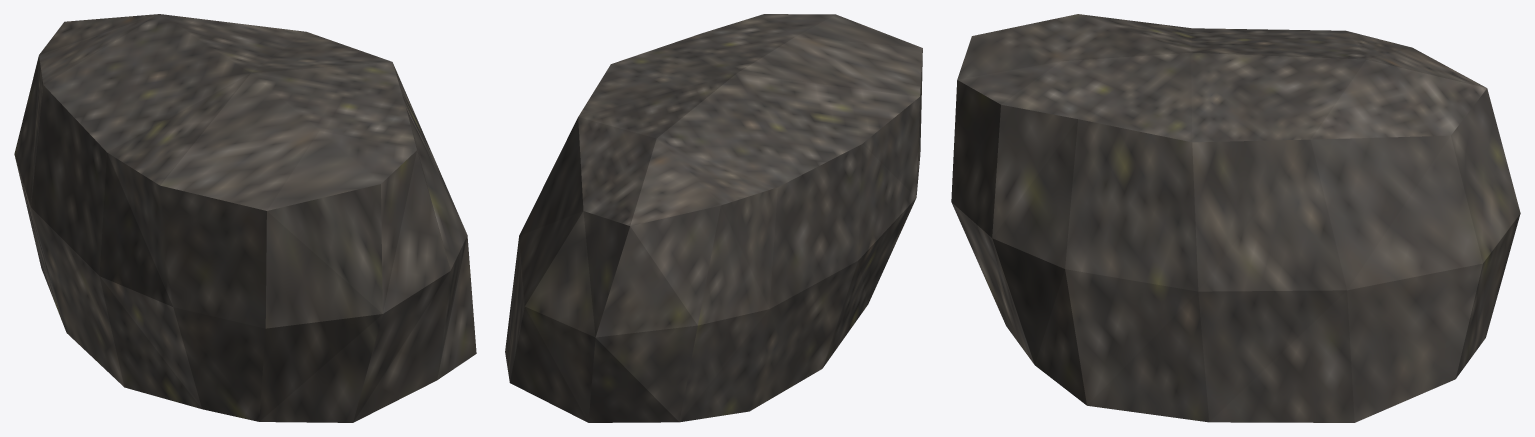
The model's file is Rock02a.obj.
3 renders of one model, left to right at view 1: azimuth 30°, elevation 25°; view 2: azimuth 150°, elevation 25°; view 3: azimuth 270°, elevation 25°, orthographic. The views are drawn at different scales.
Parts seen in each view (by area): view 1: Rock02; view 2: Rock02; view 3: Rock02.
Part boxes in pixels (x1,y1,x2,y2): Rock02: [14, 14, 476, 422]; Rock02: [505, 14, 922, 422]; Rock02: [951, 14, 1520, 422].
Size of the model in its own units: 1.45 by 1.31 by 2.2.
